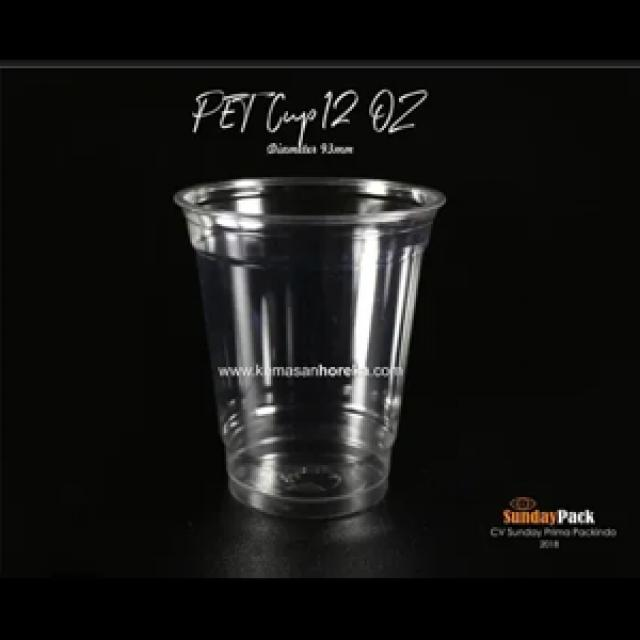plastic cup: (166, 173, 452, 529)
